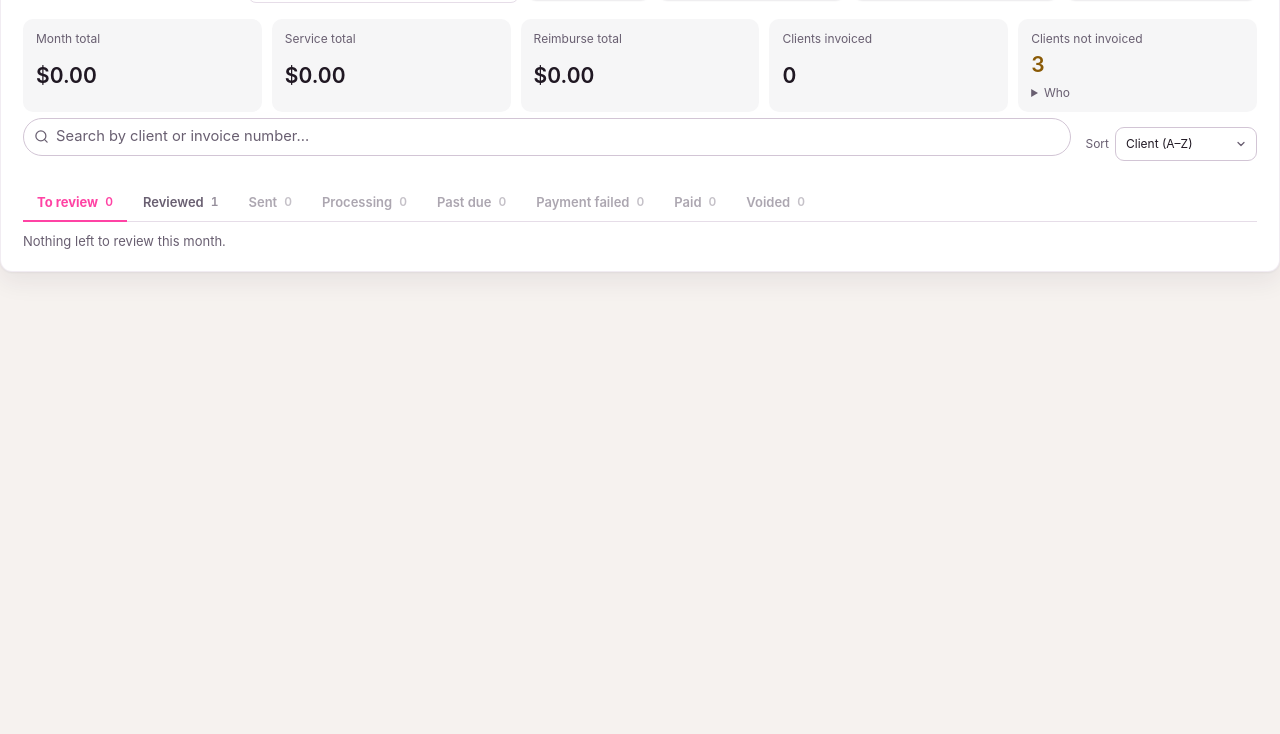
Test case: InvoiceMonthRun — who the invoice goes to › unticking the only address disables Send and says why
Click the tab "Reviewed 1" at (181, 203), box 129,184 -> 232,222
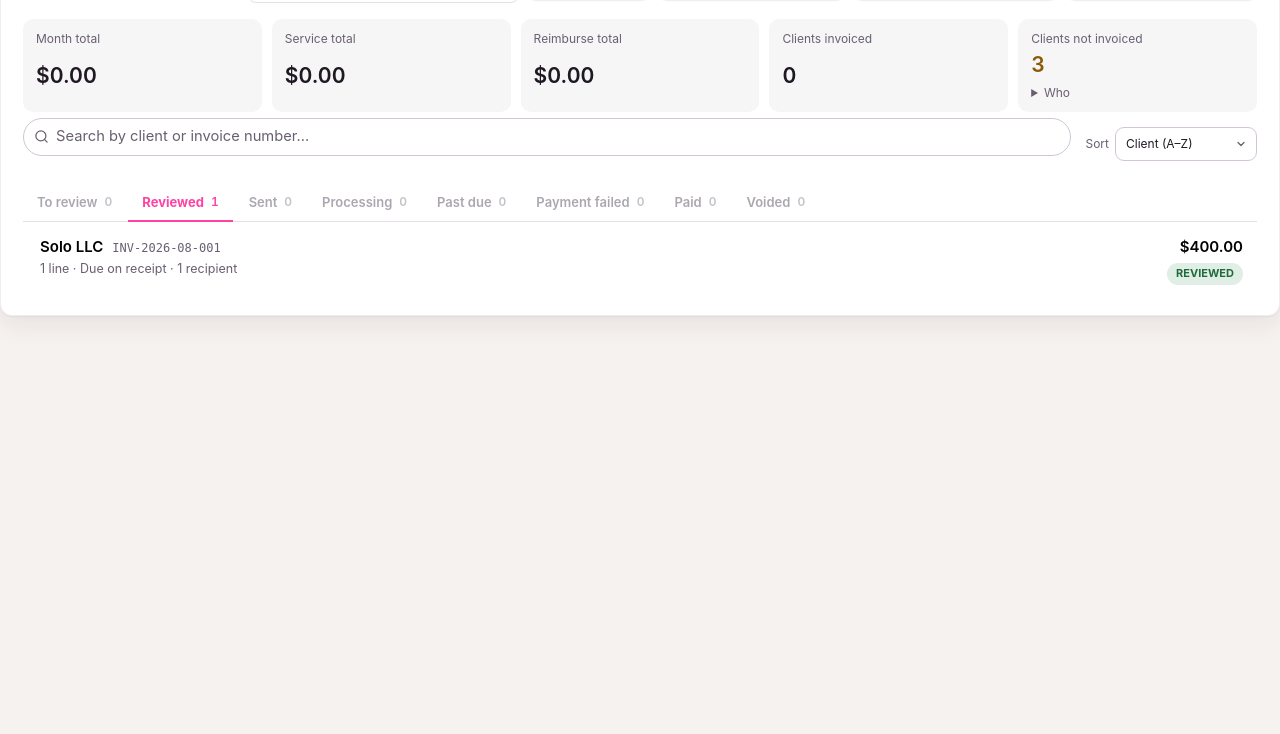
Click the text "INV-2026-08-001" at (166, 249), box 112,240 -> 221,258
(page scrolled)
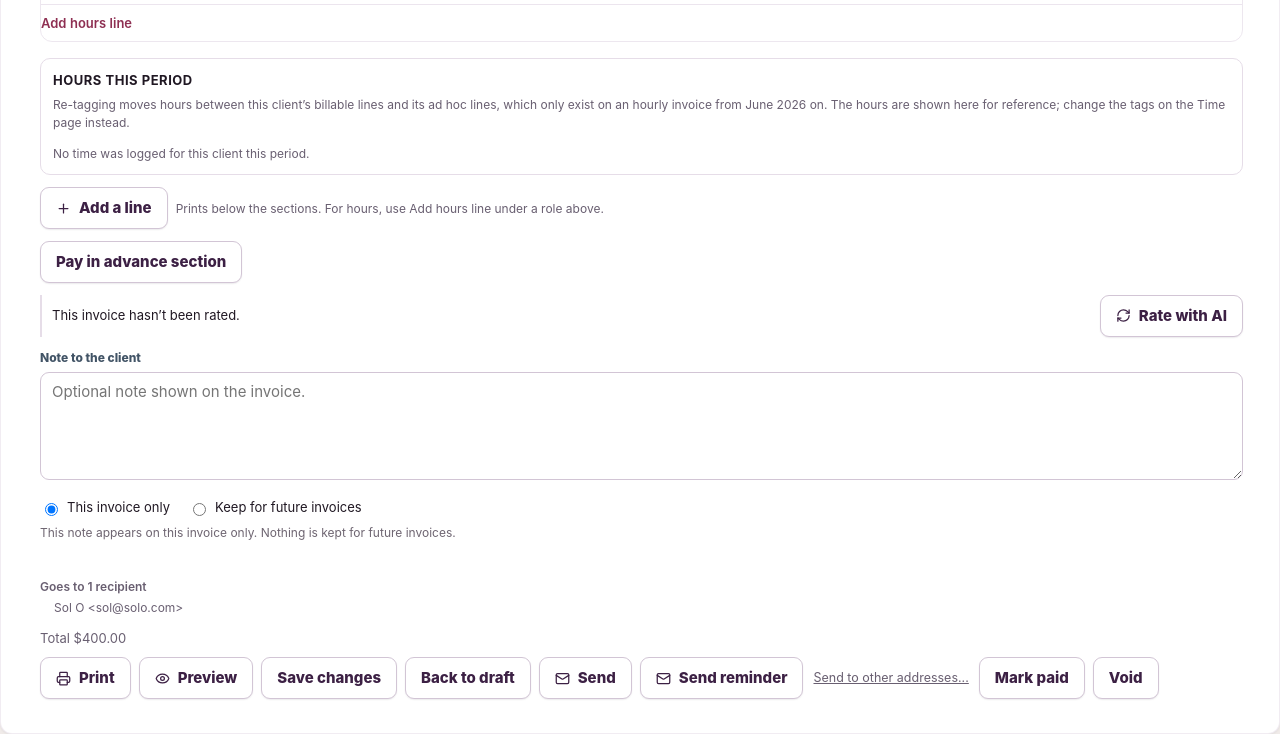
Click the button "Send" at (585, 678), box 539,657 -> 632,699
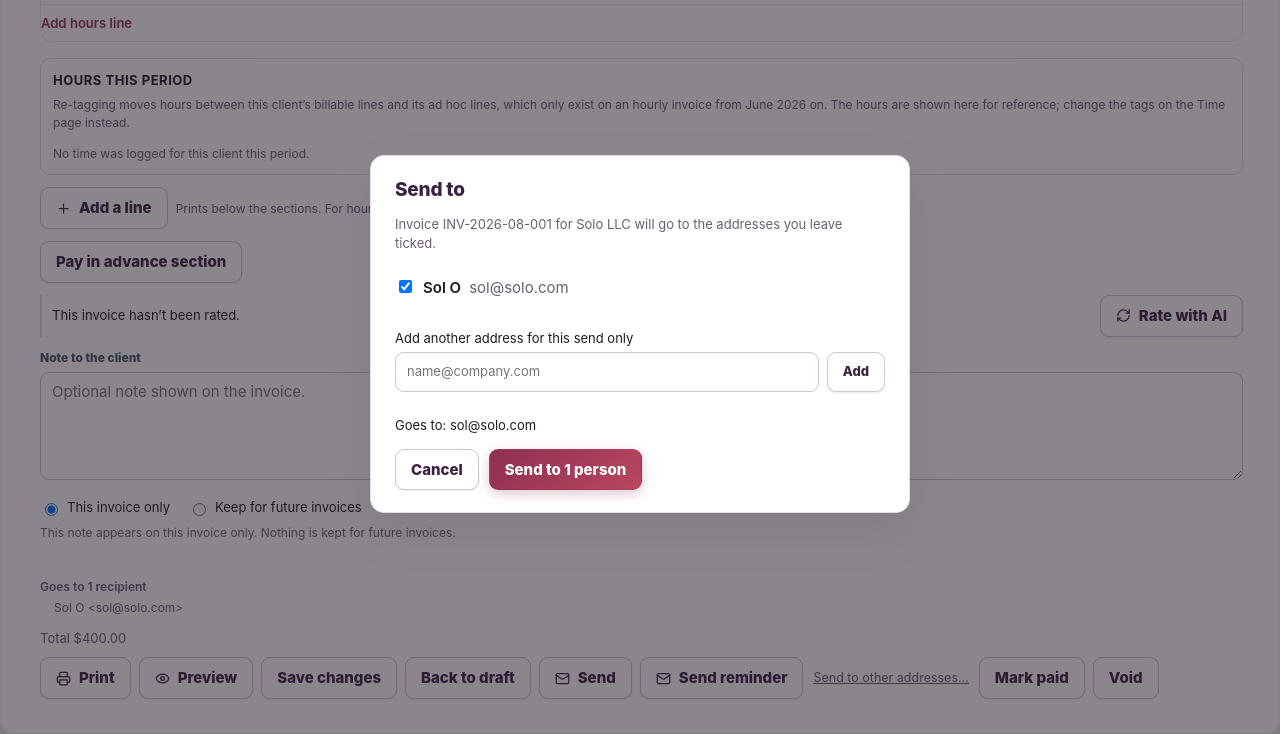
Click the checkbox labelled "Sol O sol@solo.com" at (406, 287), box 399,280 -> 412,293
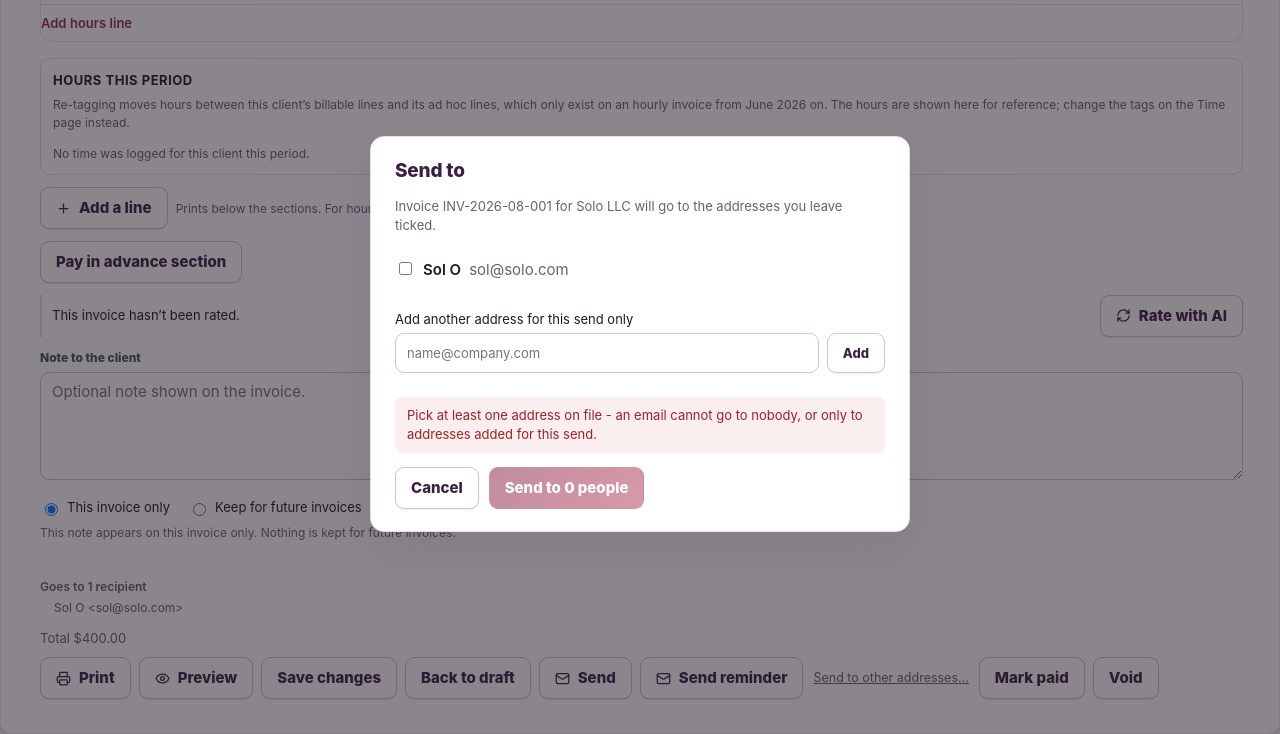
expect the button "Send to 0 people" is disabled: met, box 489,467 -> 644,509
expect the message shows "Pick at least one address on file": met, box 407,407 -> 863,442
